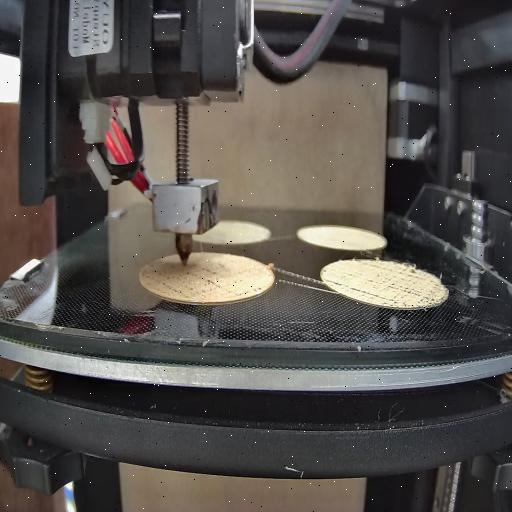under_extrusion: (143, 272, 265, 300), (346, 269, 442, 303), (323, 276, 342, 291)
